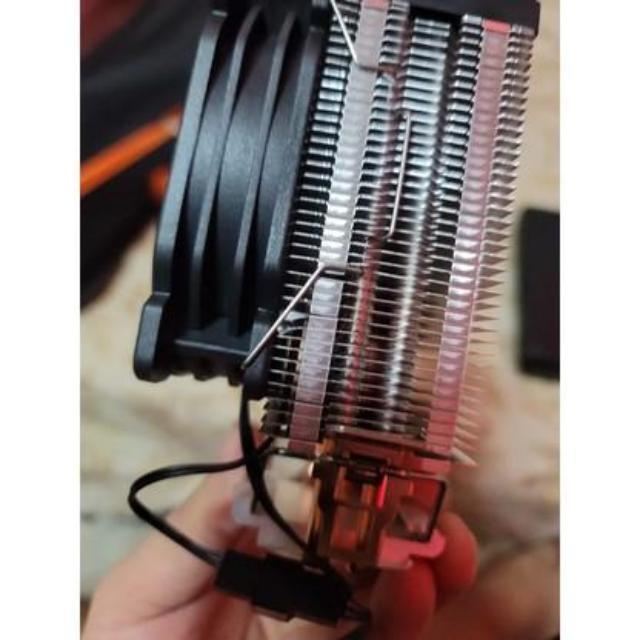CPU_Fan: (148, 0, 544, 569)
